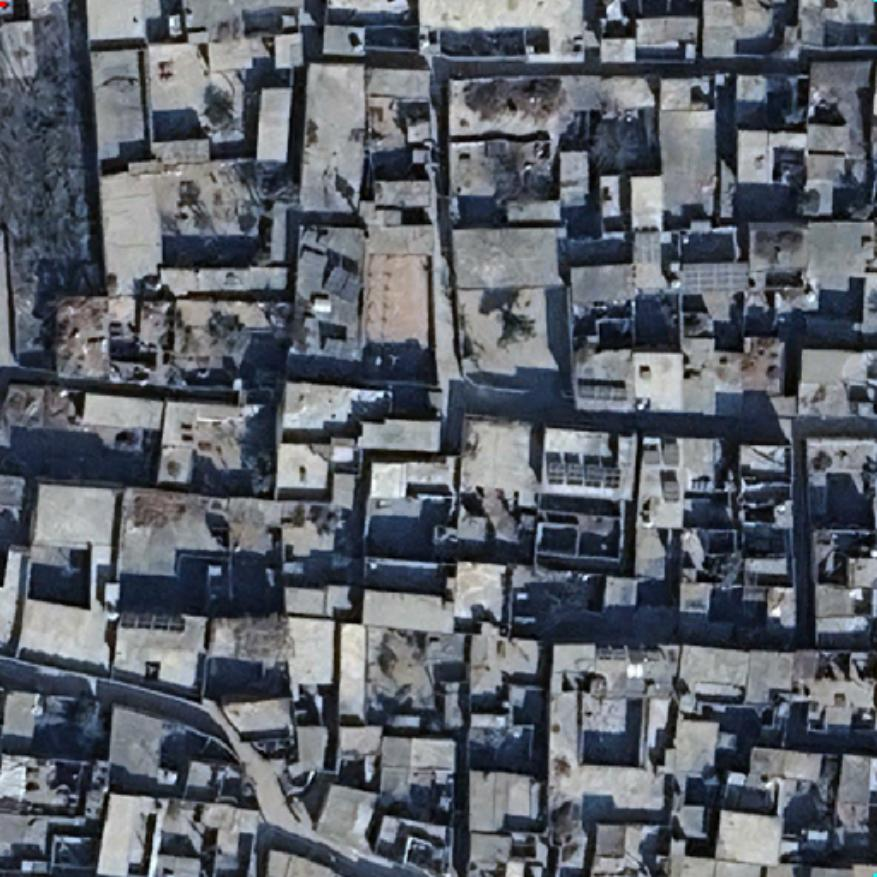Solarpanel: (544, 458, 624, 490), (678, 262, 750, 294), (113, 609, 187, 635), (321, 264, 357, 301), (574, 380, 630, 402), (632, 229, 662, 264), (323, 335, 357, 361)
